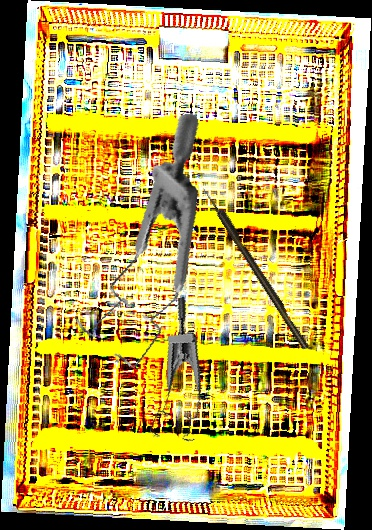Hook Surgical: (201, 185, 310, 351)
Speculum: (36, 112, 249, 378), (118, 296, 223, 451)
